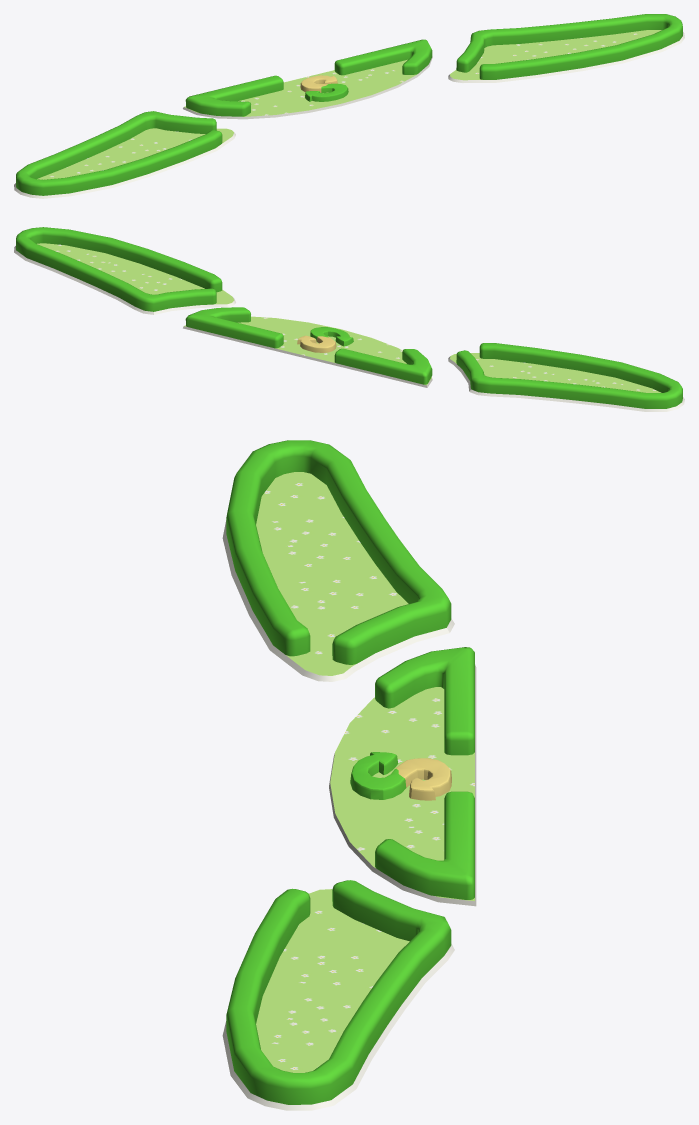
File: Foreground.fbx
3 views of the same model, one above another, from view 1: azimuth 30°, elevation 25°; view 2: azimuth 150°, elevation 25°; view 3: azimuth 270°, elevation 25° (orthographic). The views are drawn at different scales.
Visible parts, largest first — view 1: Foreground; view 2: Foreground; view 3: Foreground.
Boxes of the visible parts, left/top/right/bottom form: Foreground: left=14, top=14, right=684, bottom=198; Foreground: left=14, top=227, right=684, bottom=411; Foreground: left=222, top=440, right=476, bottom=1110.
Size of the model in its own units: 6299 by 125 by 1043.
